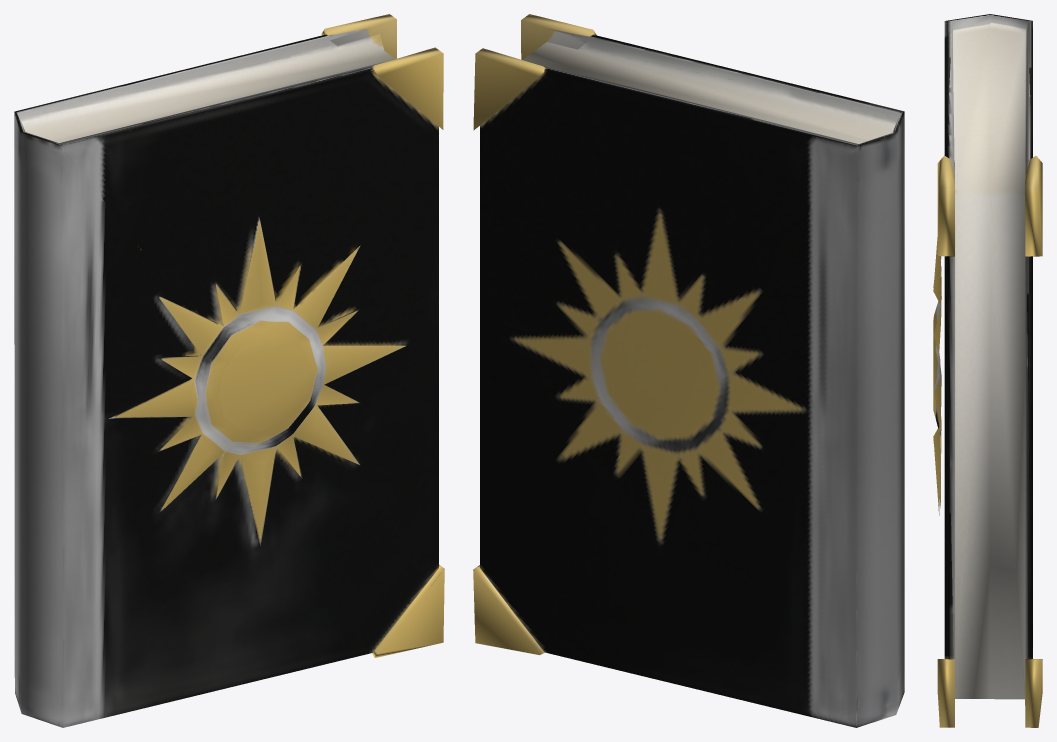
The model's file is hand-healer.glb.
The picture shows the model from 3 angles, left to right: view 1: azimuth 30°, elevation 25°; view 2: azimuth 150°, elevation 25°; view 3: azimuth 270°, elevation 25°; orthographic projection. The views are drawn at different scales.
Bounding box in the file's own units: 0.6626 × 0.9517 × 0.1733.
Materials: 1 (1 with a texture image).
